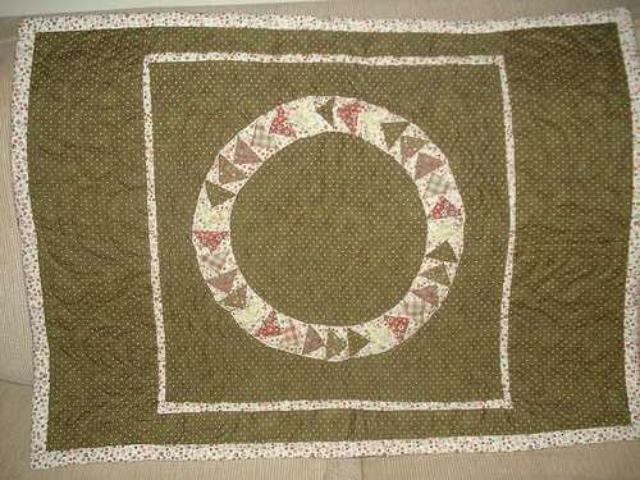pillow: (9, 6, 637, 468)
